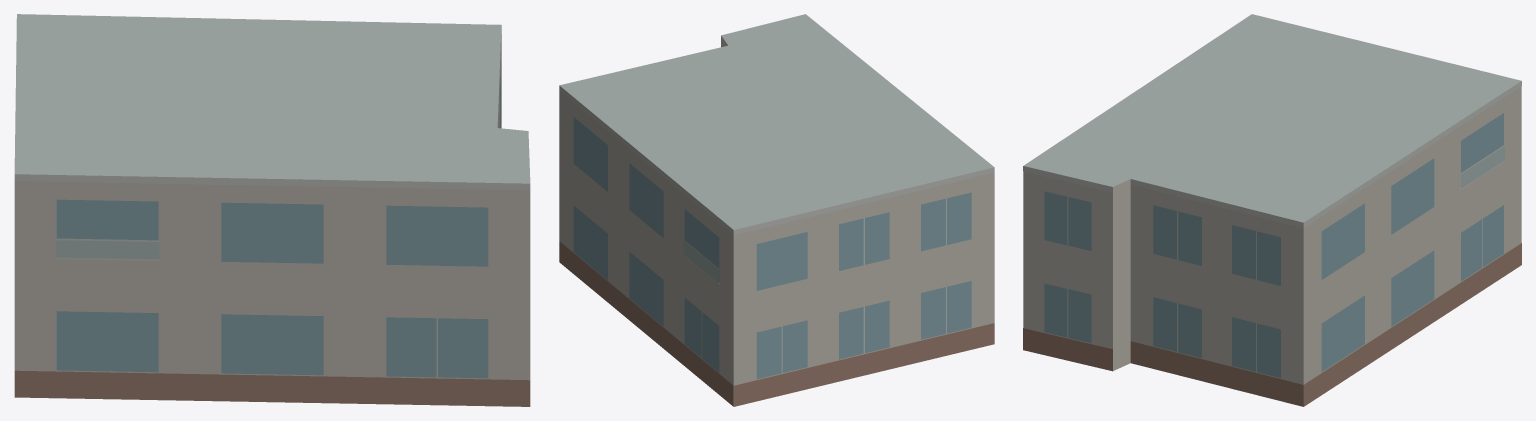
File: survey-upis-33035313.glb
3 views of the same model, side by side, from view 1: azimuth 30°, elevation 25°; view 2: azimuth 150°, elevation 25°; view 3: azimuth 270°, elevation 25° (orthographic). The views are drawn at different scales.
Visible parts, largest first — view 1: survey-upis-33035313.tmp; view 2: survey-upis-33035313.tmp; view 3: survey-upis-33035313.tmp.
Boxes of the visible parts, x1,y1,x2,y2 form: survey-upis-33035313.tmp: (14, 14, 530, 406); survey-upis-33035313.tmp: (559, 14, 994, 406); survey-upis-33035313.tmp: (1023, 14, 1521, 406).
Size of the model in its own units: 19.69 by 8.1 by 19.88.
